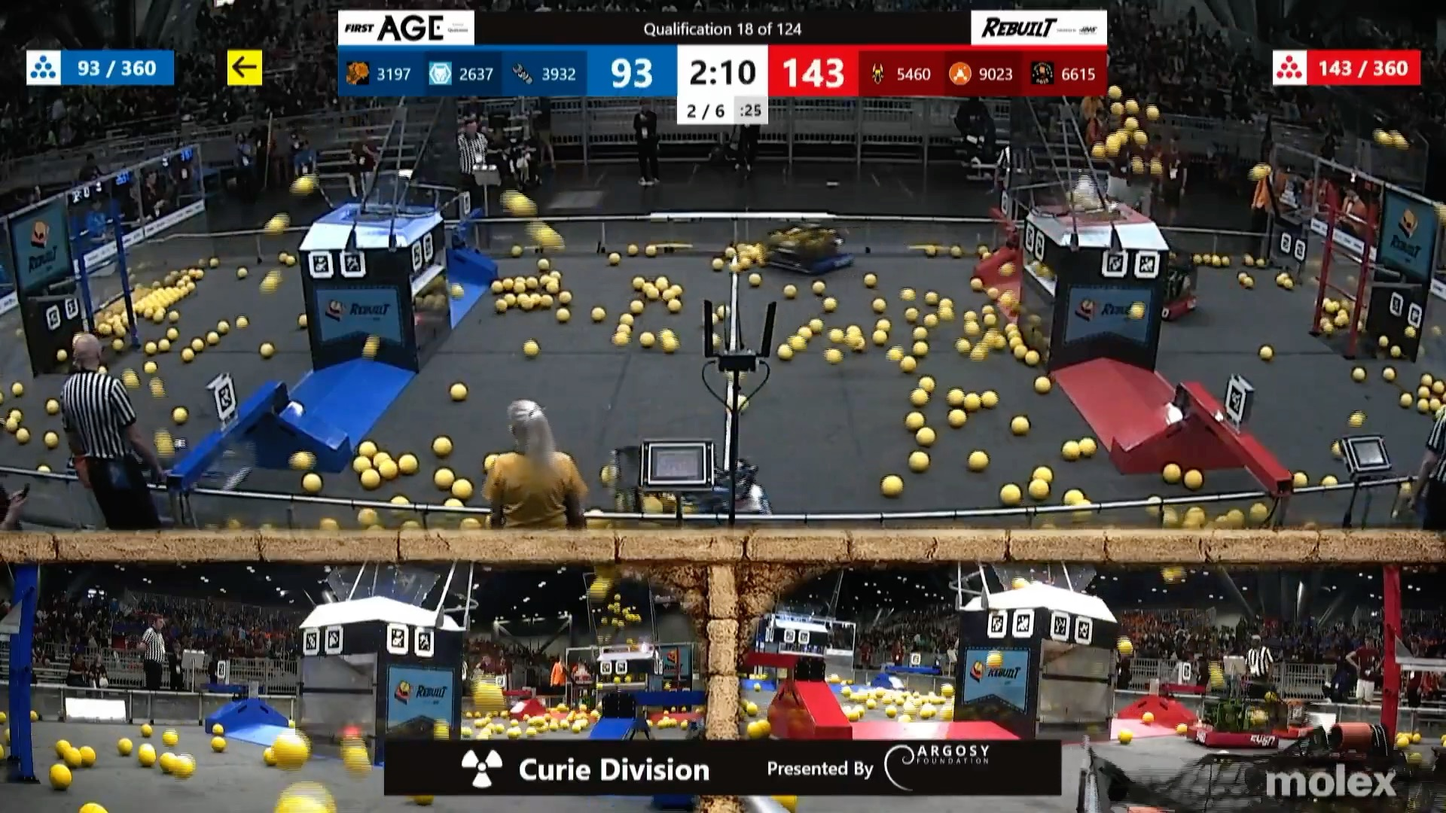bumpers: (755, 245, 856, 276), (1185, 723, 1283, 754), (1129, 287, 1202, 320), (1271, 723, 1324, 742)
